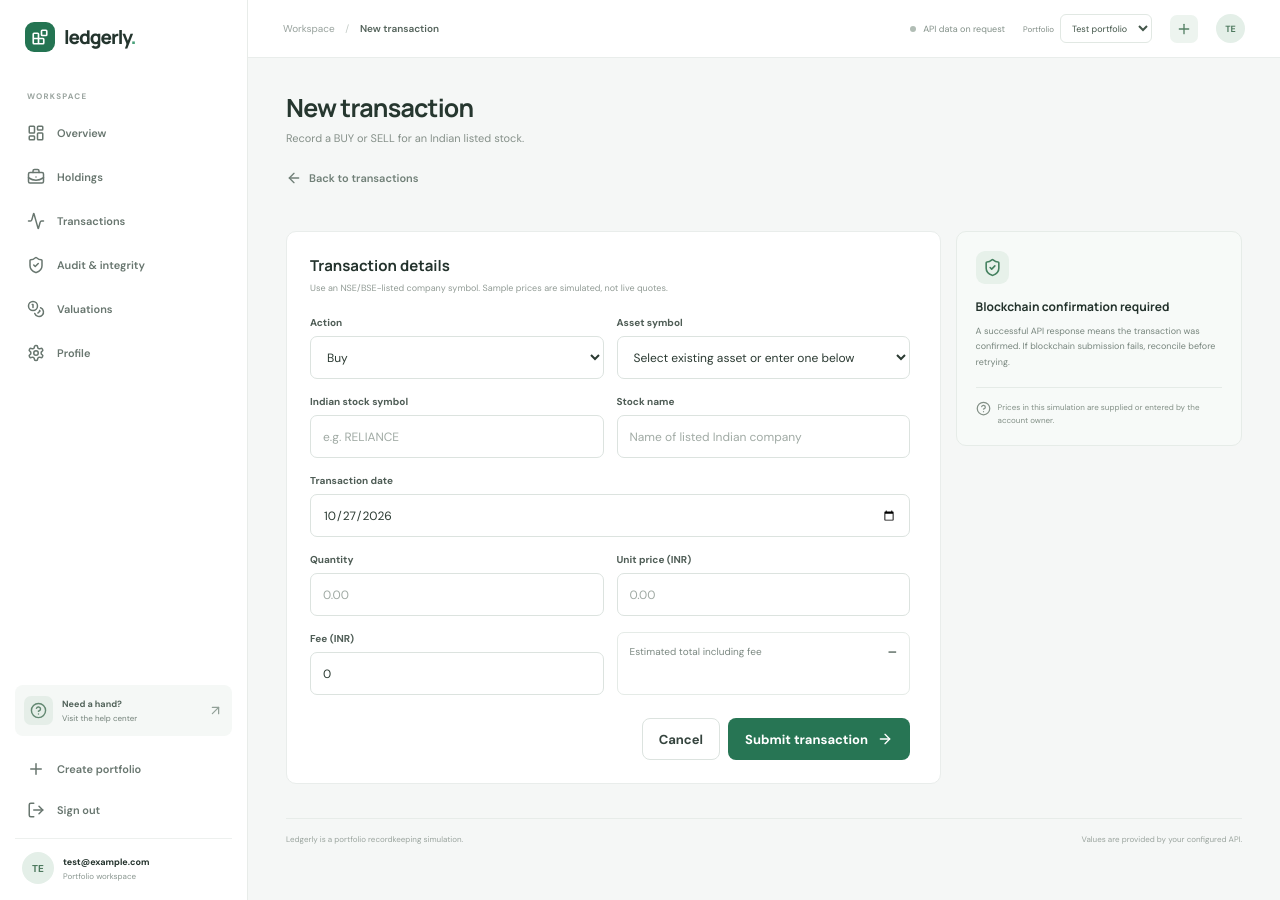
portfolio transaction form integration › validates required transaction data before posting
Click the button "Submit transaction".
click(819, 739)  # box 728,718 -> 910,760
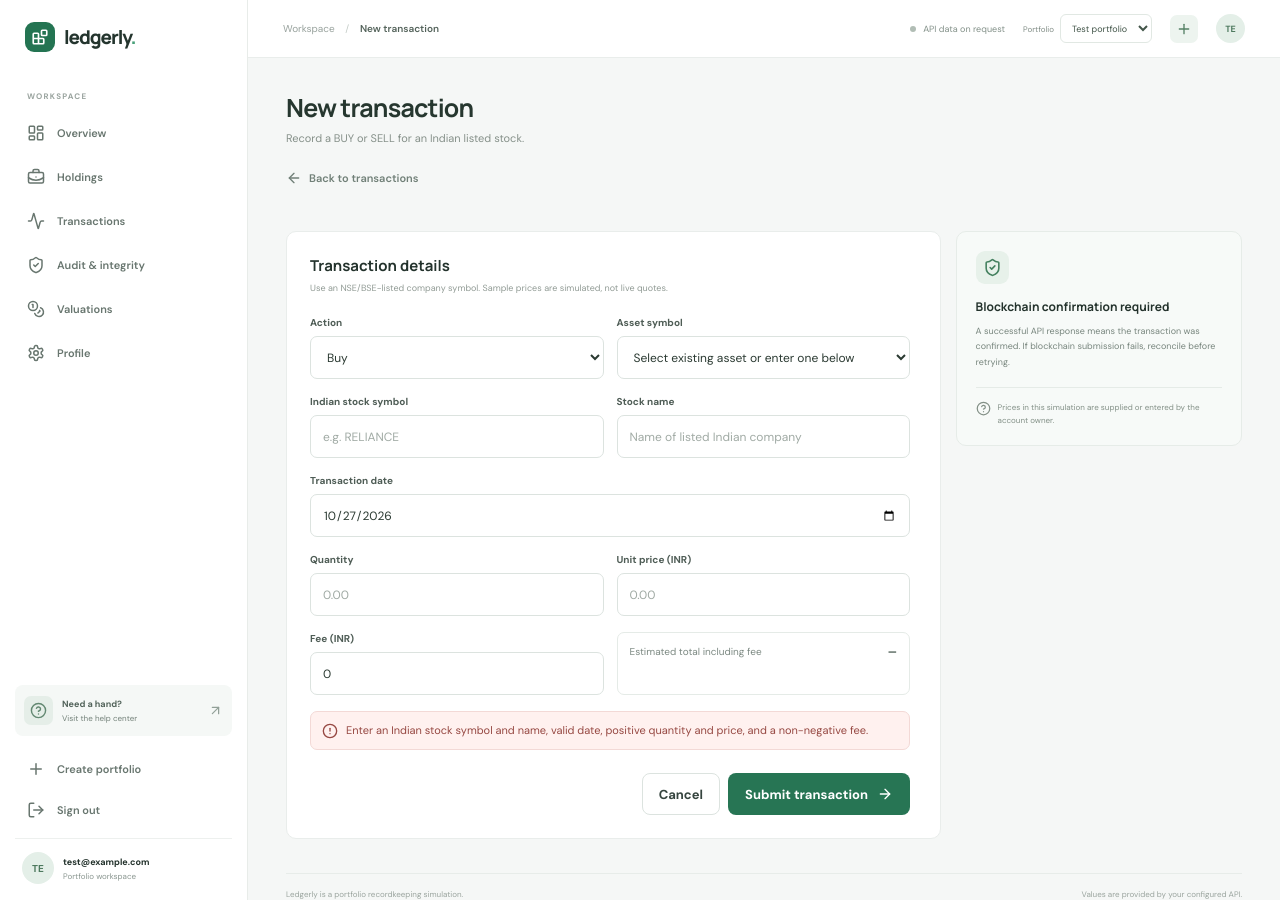
Result: the message shows "Enter an Indian stock symbol and name" at 346,723 -> 868,737
